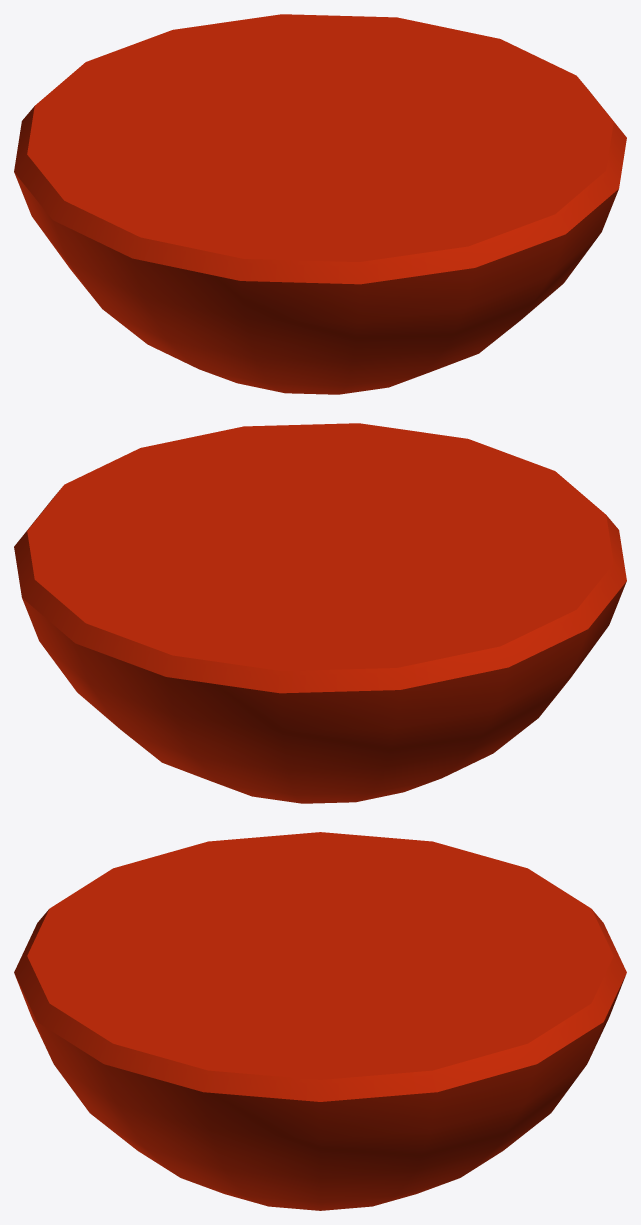
File: Leg_08.fbx
The picture shows the model from 3 angles, top to bottom: view 1: azimuth 30°, elevation 25°; view 2: azimuth 150°, elevation 25°; view 3: azimuth 270°, elevation 25°; orthographic projection.
Visible parts, largest first — view 1: Leg_08; view 2: Leg_08; view 3: Leg_08.
Part boxes in pixels (bbox=[...]): Leg_08: bbox=[14, 14, 626, 394]; Leg_08: bbox=[14, 423, 626, 803]; Leg_08: bbox=[14, 832, 626, 1210].
Bounding box in the file's own units: 95.42 × 38.87 × 95.42.
